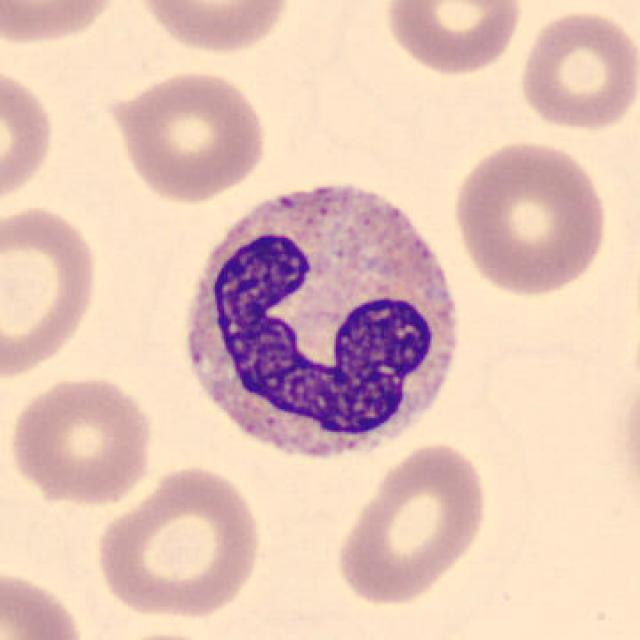Neutrophil: (163, 168, 473, 480)
RBC: (90, 462, 266, 622), (330, 439, 492, 608), (446, 136, 612, 300), (101, 65, 272, 205), (5, 372, 158, 508), (0, 200, 103, 384), (514, 5, 638, 134), (379, 0, 526, 78), (128, 0, 295, 56), (0, 60, 57, 213), (0, 564, 91, 640), (0, 0, 124, 49), (99, 627, 229, 640)
